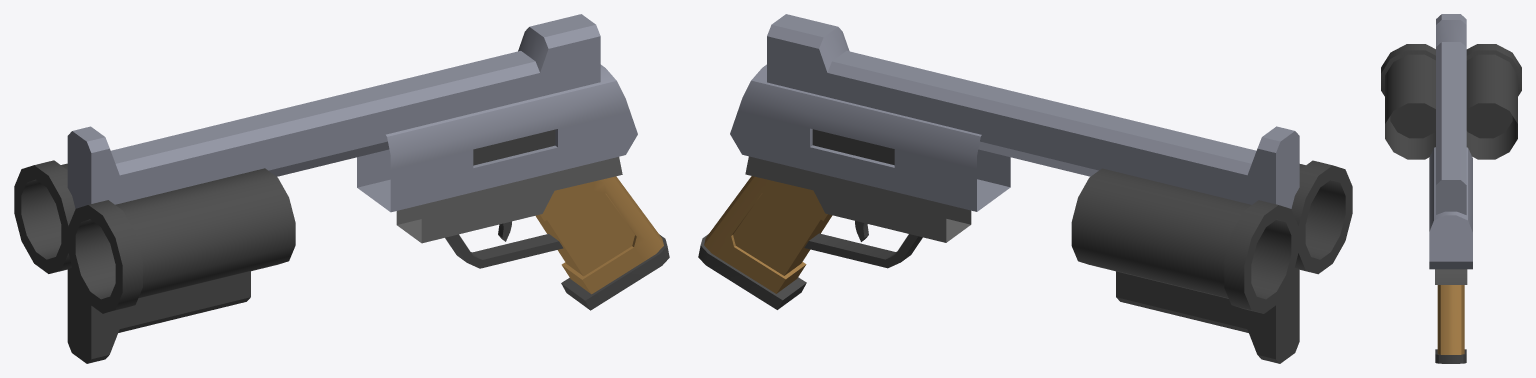
File: GrenadeLauncher.FBX
3 renders of one model, left to right at view 1: azimuth 30°, elevation 25°; view 2: azimuth 150°, elevation 25°; view 3: azimuth 270°, elevation 25°, orthographic. The views are drawn at different scales.
Parts seen in each view (by area): view 1: polySurface11; view 2: polySurface11; view 3: polySurface11.
Part boxes in pixels (x1=…): polySurface11: x1=14, y1=14, x2=669, y2=363; polySurface11: x1=698, y1=14, x2=1352, y2=363; polySurface11: x1=1381, y1=14, x2=1521, y2=363.
Size of the model in its own units: 120 by 55.5 by 38.03.
